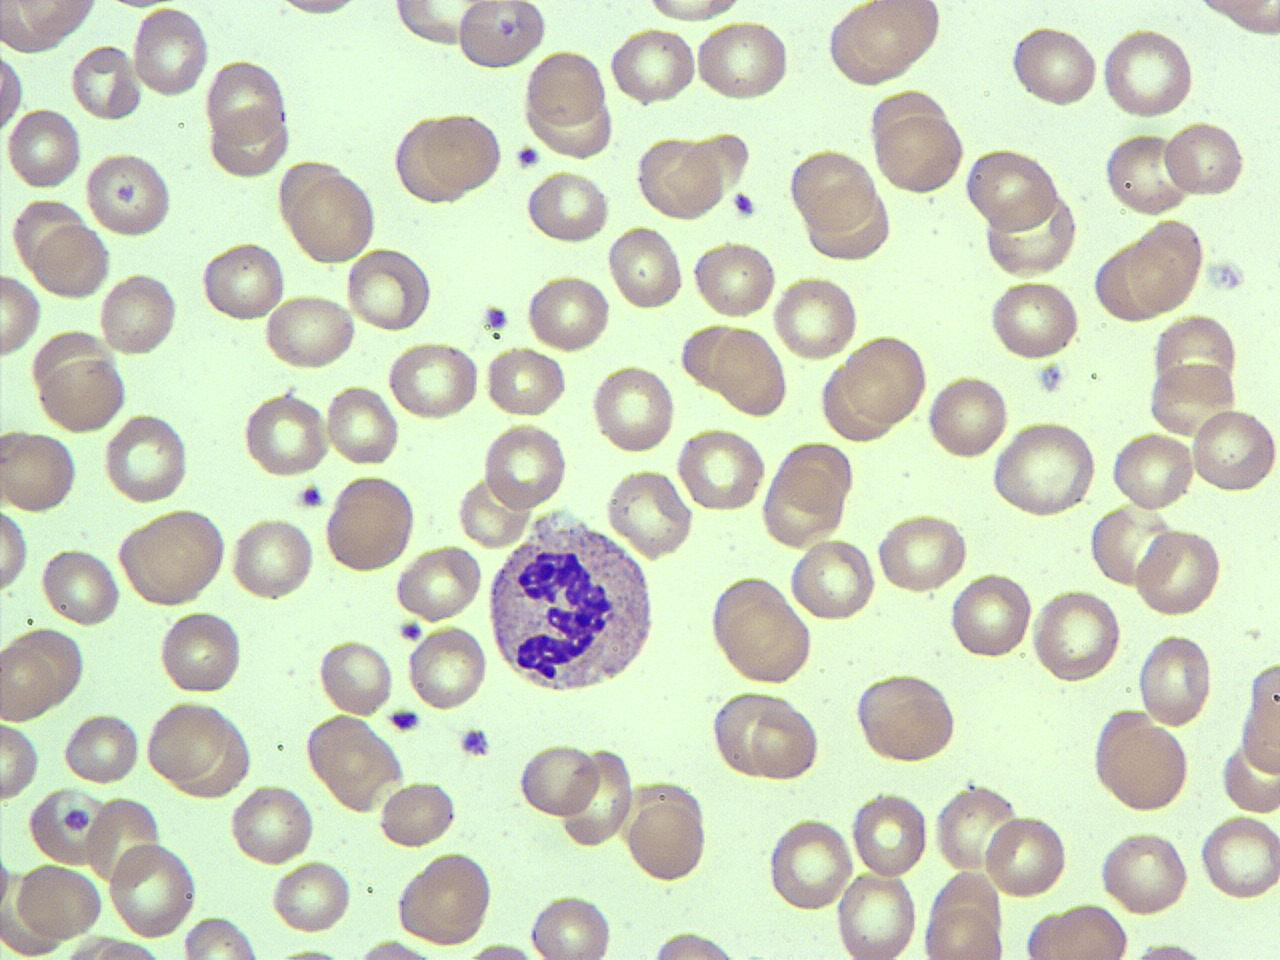Platelets: (456, 724, 494, 758), (385, 704, 423, 734), (1036, 360, 1064, 395), (480, 301, 510, 332), (295, 482, 326, 512), (730, 189, 758, 221), (513, 143, 543, 170), (396, 618, 423, 643)
RBC: (708, 574, 816, 688), (115, 506, 229, 608), (140, 696, 255, 796), (990, 418, 1101, 518), (822, 1, 946, 86), (1091, 714, 1193, 816), (852, 670, 959, 766), (307, 713, 407, 813), (396, 850, 496, 950), (322, 472, 418, 574), (105, 836, 198, 942), (1100, 24, 1198, 121), (758, 449, 850, 550), (1030, 588, 1122, 686), (766, 814, 854, 916), (604, 465, 694, 561), (288, 169, 378, 266), (1095, 828, 1193, 916), (674, 424, 769, 514), (1134, 524, 1224, 620), (692, 18, 792, 104), (1006, 21, 1101, 111), (590, 360, 678, 456), (963, 145, 1060, 232), (946, 568, 1035, 663), (241, 388, 333, 479), (83, 149, 175, 239), (1188, 405, 1278, 498), (560, 745, 638, 852), (870, 111, 968, 196), (787, 534, 878, 625), (480, 419, 570, 510), (103, 411, 191, 504), (1135, 630, 1215, 732), (987, 278, 1083, 363), (786, 146, 880, 233), (842, 333, 928, 427), (1123, 218, 1207, 314), (625, 790, 709, 886), (982, 810, 1069, 902), (875, 510, 971, 594), (385, 339, 482, 422), (228, 514, 316, 604), (770, 274, 861, 362), (227, 781, 317, 868), (343, 245, 434, 332), (932, 782, 1018, 874), (633, 135, 727, 220), (130, 3, 211, 101), (833, 870, 920, 960), (606, 25, 700, 108), (1100, 130, 1190, 216), (405, 622, 490, 714), (924, 372, 1010, 462), (156, 608, 246, 694), (690, 236, 780, 322), (262, 292, 358, 371), (1110, 428, 1196, 514), (204, 58, 289, 146), (1198, 811, 1280, 903), (849, 788, 929, 880), (712, 325, 790, 419), (199, 240, 285, 325), (1089, 500, 1172, 588), (525, 272, 613, 356), (0, 425, 80, 516), (35, 355, 128, 434), (97, 270, 179, 358), (394, 544, 483, 624), (606, 223, 686, 312), (4, 103, 84, 193), (13, 862, 105, 940), (38, 544, 122, 628), (1161, 117, 1247, 200), (744, 696, 823, 784), (516, 740, 602, 821), (423, 109, 504, 195), (524, 167, 612, 245), (316, 635, 396, 720), (324, 382, 401, 469), (452, 2, 549, 71), (390, 112, 464, 202), (31, 221, 113, 302), (29, 784, 109, 866), (0, 630, 71, 722), (525, 49, 607, 128), (68, 40, 144, 123), (1021, 904, 1133, 960), (484, 345, 568, 419), (270, 860, 353, 936), (526, 892, 618, 960), (1091, 240, 1163, 324), (376, 778, 460, 850), (207, 109, 291, 179), (62, 710, 142, 785), (455, 474, 532, 550), (920, 902, 1006, 960), (1240, 661, 1280, 781), (1, 0, 105, 45), (0, 271, 44, 360), (179, 914, 263, 960), (1191, 0, 1280, 40), (642, 928, 750, 960), (0, 720, 41, 802), (0, 500, 30, 600), (637, 0, 751, 26), (0, 42, 26, 137), (344, 937, 442, 960), (268, 0, 370, 22), (1124, 938, 1222, 960)
WBC: (479, 500, 661, 699)
